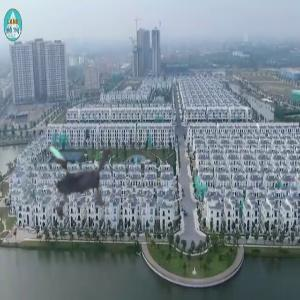drone: (5, 100, 139, 234)
